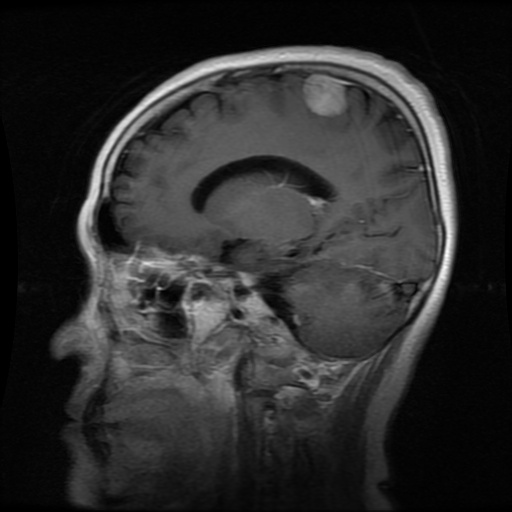meningioma: (302, 74, 348, 116)
